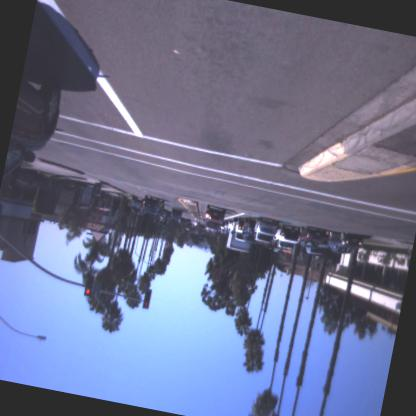trafficlight: (80, 269, 99, 299), (140, 280, 154, 314)
